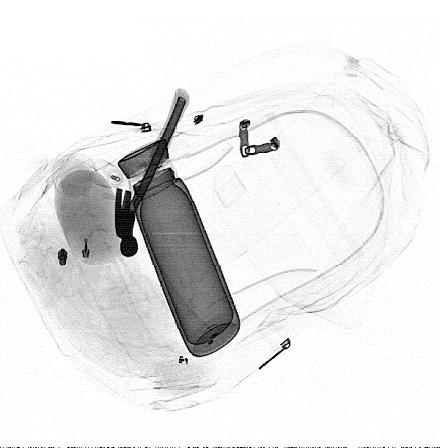Hammer: (114, 87, 190, 258)
